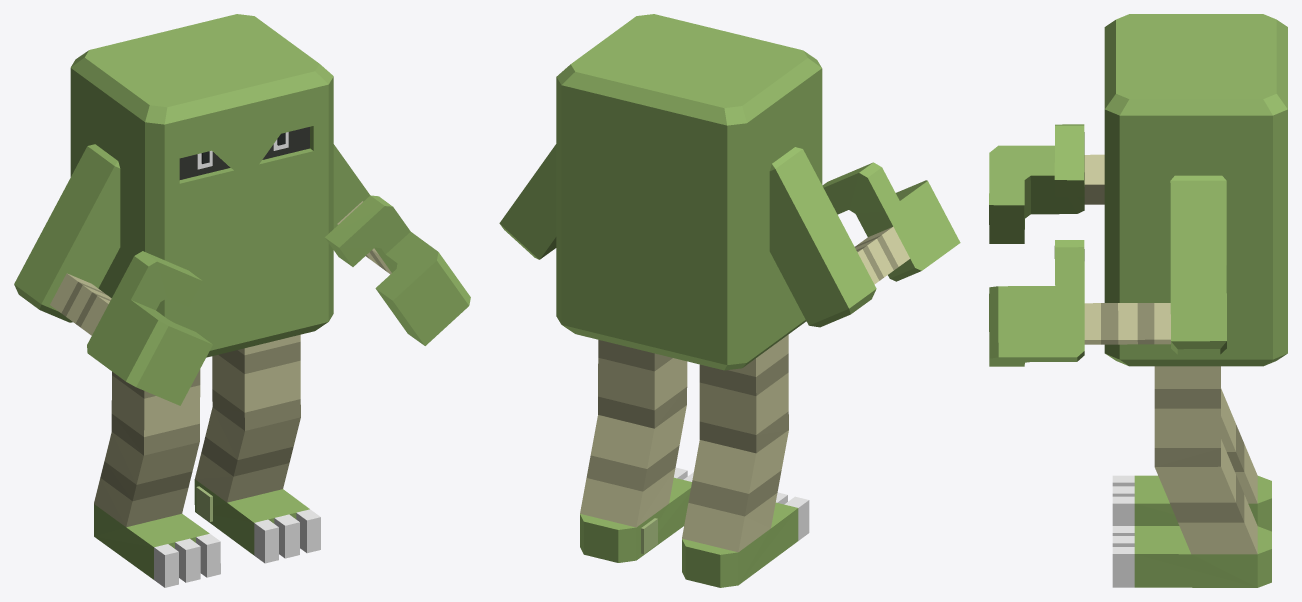
The model's file is model_shiny.obj.
3 renders of one model, left to right at view 1: azimuth 30°, elevation 25°; view 2: azimuth 150°, elevation 25°; view 3: azimuth 270°, elevation 25°, orthographic. The views are drawn at different scales.
Visible parts, largest first — view 1: 0106_hitmonlee_shiny; view 2: 0106_hitmonlee_shiny; view 3: 0106_hitmonlee_shiny.
Part boxes in pixels (x1,y1,x2,y2): 0106_hitmonlee_shiny: (14, 14, 470, 587); 0106_hitmonlee_shiny: (499, 14, 960, 587); 0106_hitmonlee_shiny: (989, 14, 1287, 587).
Size of the model in its own units: 1.93 by 2.54 by 1.4.
1 material, 1 textured.
